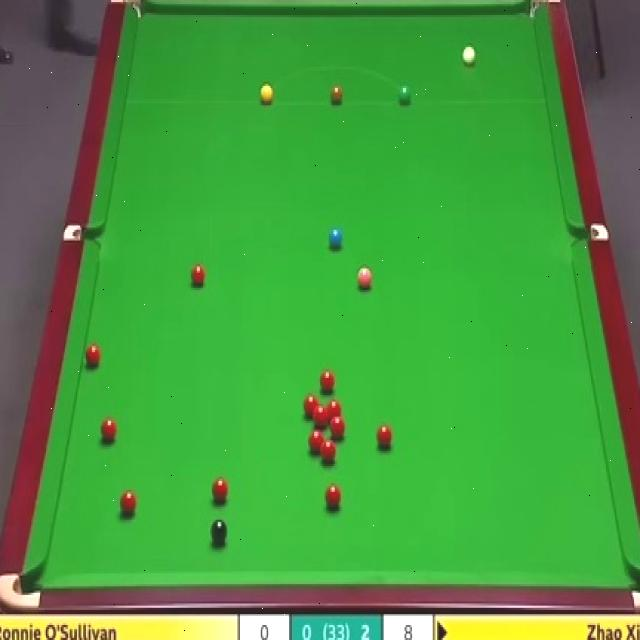black-ball: (210, 520, 228, 548)
blue-ball: (328, 225, 343, 251)
brown-ball: (330, 82, 343, 105)
green-ball: (398, 86, 412, 107)
pink-ball: (358, 266, 372, 289)
red-ball: (375, 423, 394, 452), (118, 492, 136, 521), (83, 344, 101, 372), (325, 482, 341, 511), (101, 415, 117, 443), (308, 428, 324, 455), (212, 477, 229, 502), (302, 393, 318, 418), (321, 440, 336, 466), (320, 369, 334, 395), (330, 417, 345, 439), (191, 263, 205, 286), (327, 401, 341, 422), (313, 405, 327, 425)
white-ball: (461, 44, 477, 72)
yellow-ball: (260, 84, 274, 106)
